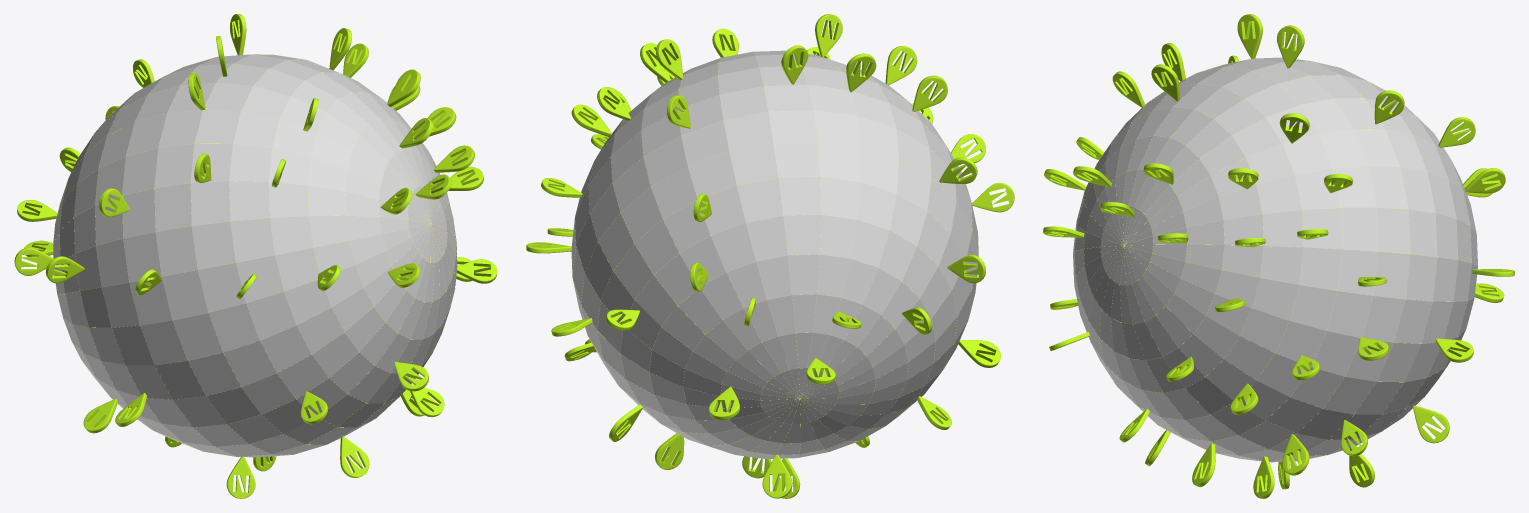
File: NakaCard-WEB-3D-Globe02.glb
3 views of the same model, side by side, from view 1: azimuth 30°, elevation 25°; view 2: azimuth 150°, elevation 25°; view 3: azimuth 270°, elevation 25° (orthographic).
Visible parts, largest first — view 1: Sphere.013; view 2: Sphere.013; view 3: Sphere.013.
Part boxes in pixels (x1,y1,x2,y2): Sphere.013: (14, 14, 497, 498); Sphere.013: (526, 14, 1014, 498); Sphere.013: (1043, 14, 1514, 498).
Bounding box in the file's own units: 0.4798 × 0.4845 × 0.4693.
